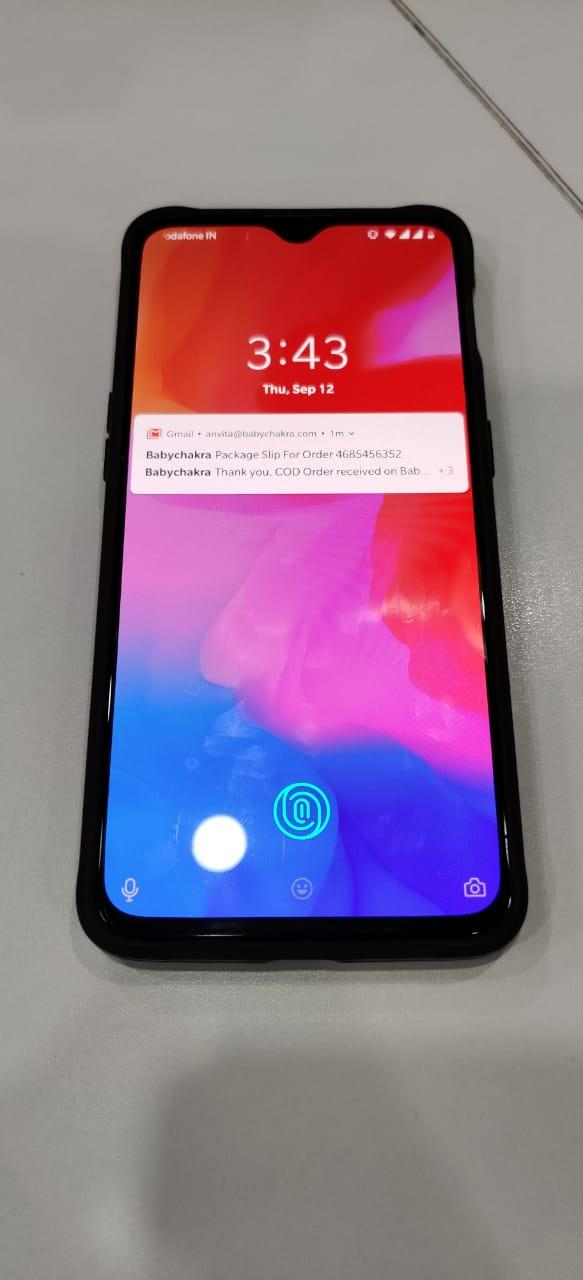Phone: (53, 166, 563, 1012)
